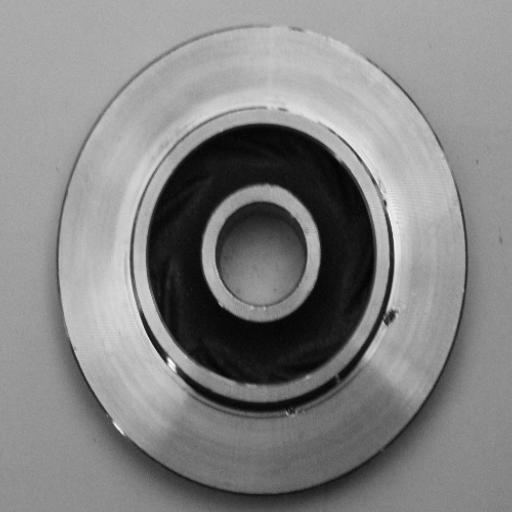crack: (273, 391, 310, 422), (375, 299, 406, 332)
scratch: (272, 16, 382, 63), (253, 94, 335, 131), (152, 342, 192, 384)
unpolished_casting: (54, 21, 470, 501)
